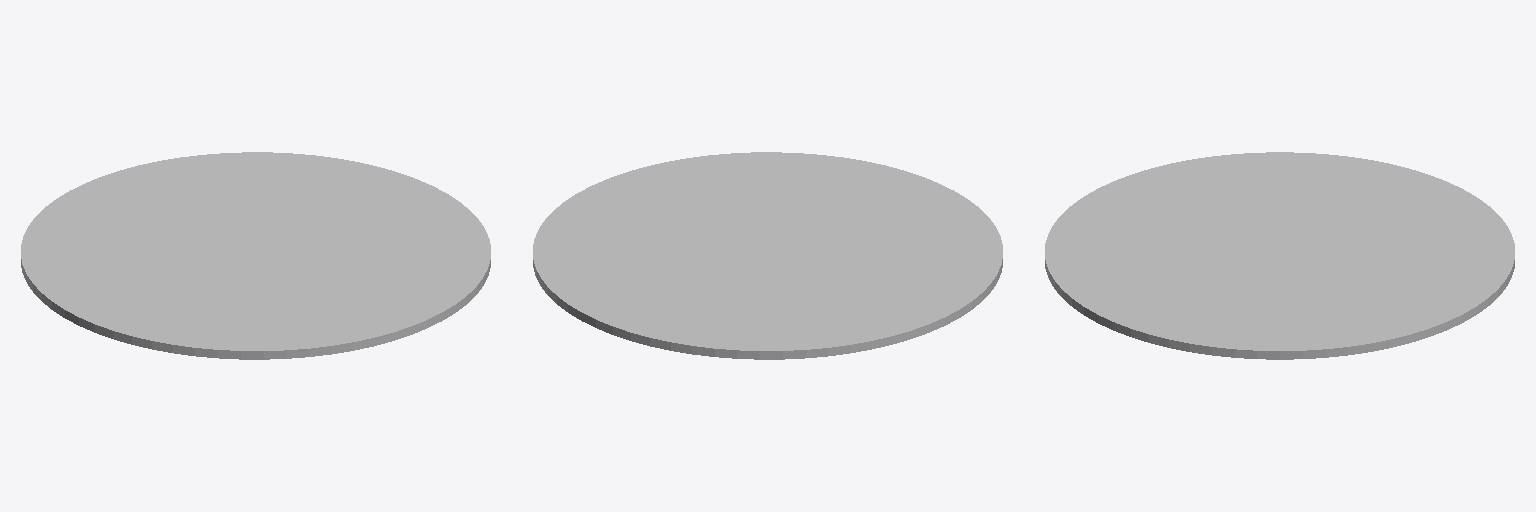
The model's file is disc.obj.
3 renders of one model, left to right at view 1: azimuth 30°, elevation 25°; view 2: azimuth 150°, elevation 25°; view 3: azimuth 270°, elevation 25°, orthographic.
Parts seen in each view (by area): view 1: Cylinder_Cylinder.004; view 2: Cylinder_Cylinder.004; view 3: Cylinder_Cylinder.004.
Part boxes in pixels (left/top/right/bottom): Cylinder_Cylinder.004: left=21, top=152, right=490, bottom=359; Cylinder_Cylinder.004: left=533, top=152, right=1002, bottom=359; Cylinder_Cylinder.004: left=1045, top=152, right=1514, bottom=359.
Bounding box in the file's own units: 1 × 0.02 × 1.